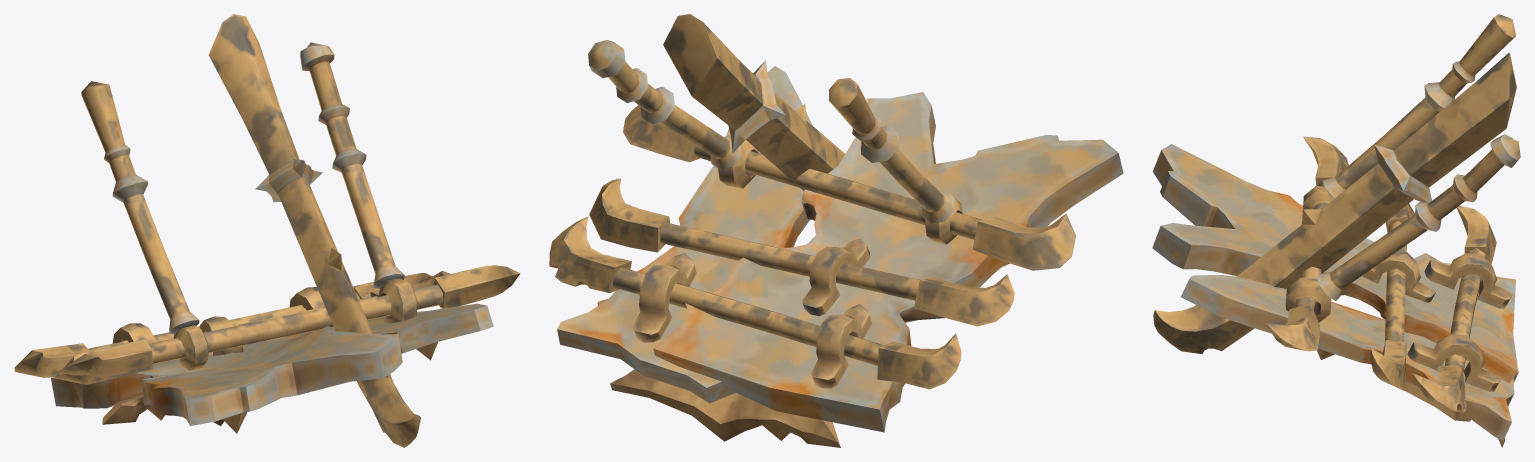
Rendered from HL_Barricade_C_DmgState_02_03.fbx.
3 views of the same model, side by side, from view 1: azimuth 30°, elevation 25°; view 2: azimuth 150°, elevation 25°; view 3: azimuth 270°, elevation 25° (orthographic). The views are drawn at different scales.
Parts seen in each view (by area): view 1: HL_Barricade_C_DmgState_02_03; view 2: HL_Barricade_C_DmgState_02_03; view 3: HL_Barricade_C_DmgState_02_03.
Part boxes in pixels (<box>): HL_Barricade_C_DmgState_02_03: <box>14,14,520,447</box>; HL_Barricade_C_DmgState_02_03: <box>549,14,1123,447</box>; HL_Barricade_C_DmgState_02_03: <box>1152,14,1520,447</box>.
Bounding box in the file's own units: 443 × 387 × 335.
